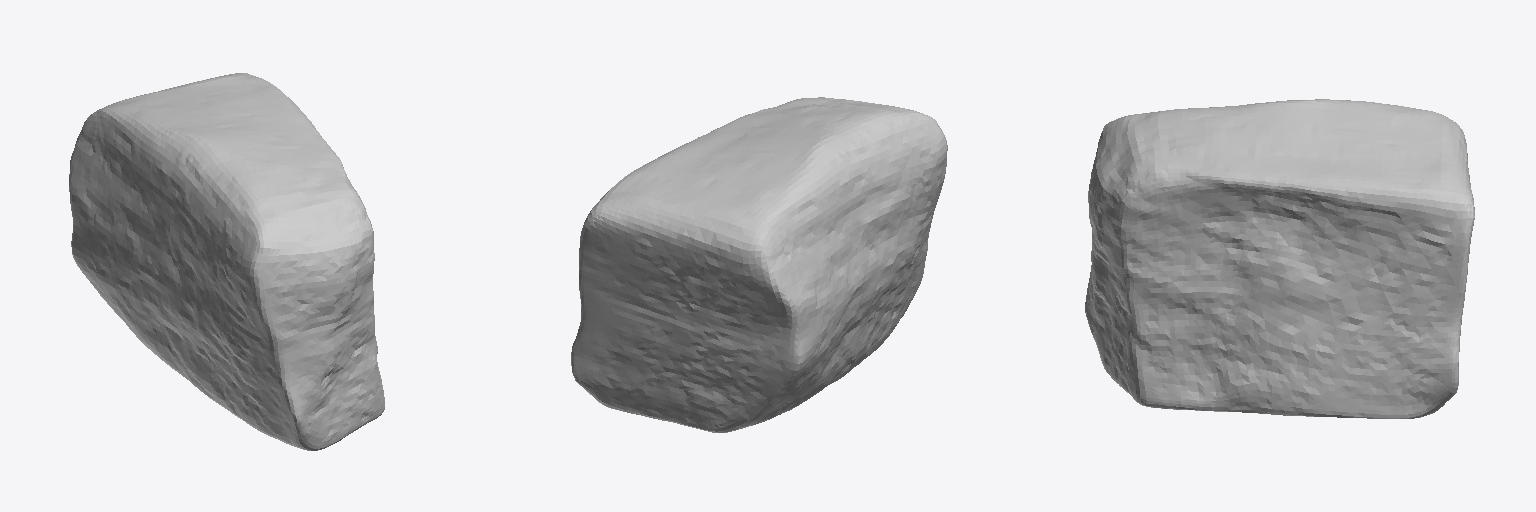
Rendered from 966552a49c53_a_long_wide_sandy_r.obj.
3 views of the same model, side by side, from view 1: azimuth 30°, elevation 25°; view 2: azimuth 150°, elevation 25°; view 3: azimuth 270°, elevation 25° (orthographic).
Visible parts, largest first — view 1: mesh; view 2: mesh; view 3: mesh.
Part boxes in pixels (left/top/right/bottom): mesh: left=69, top=73, right=384, bottom=450; mesh: left=571, top=97, right=947, bottom=432; mesh: left=1085, top=99, right=1474, bottom=418.
Size of the model in its own units: 0.6462 by 0.7205 by 0.9968.